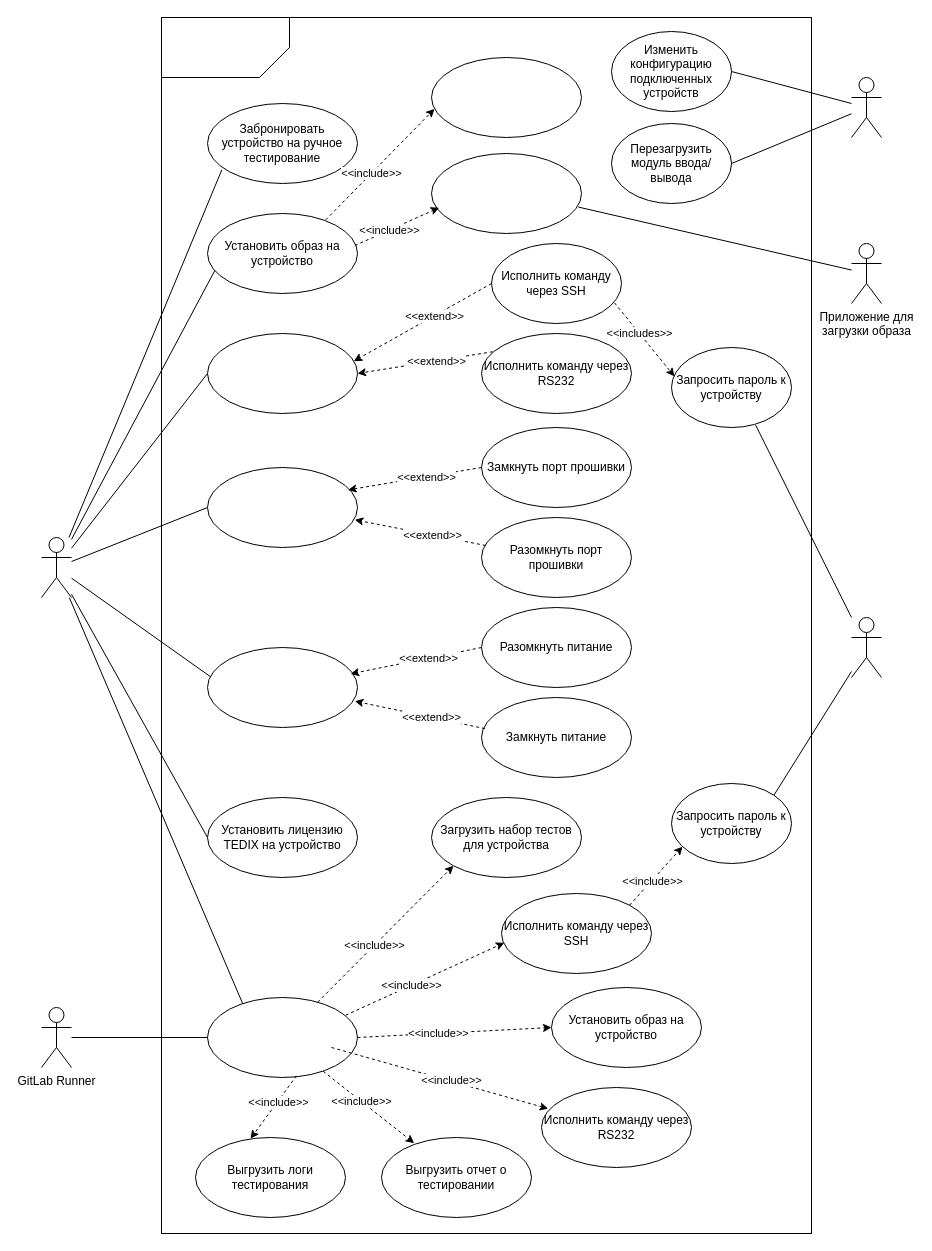
The diagram is 932 pixels wide and 1251 high, and some of its shapes have lost their labels. The centre of each missing label's shape, as x and y in pixels:
"Администратор" goes at point 866,107.
"Выгрузить логи загрузки образа" goes at point 506,97.
"Загрузить файл с образом" goes at point 506,193.
"Запустить автоматизированное тестирование устройства" goes at point 282,1037.
"Исполнить команду на устройстве" goes at point 282,373.
"Пользователь" goes at point 56,567.
"Сервер подписей" goes at point 866,647.
"Стенд автоматизированного тестирования" goes at point 225,47.
"Управлять питанием устройства" goes at point 282,687.
"Управлять режимом прошивки устройства" goes at point 282,507.
